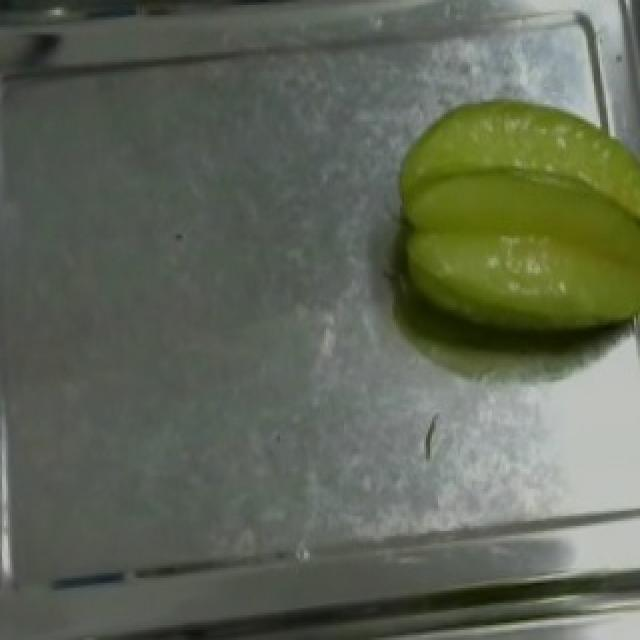fruit: (374, 72, 638, 377)
